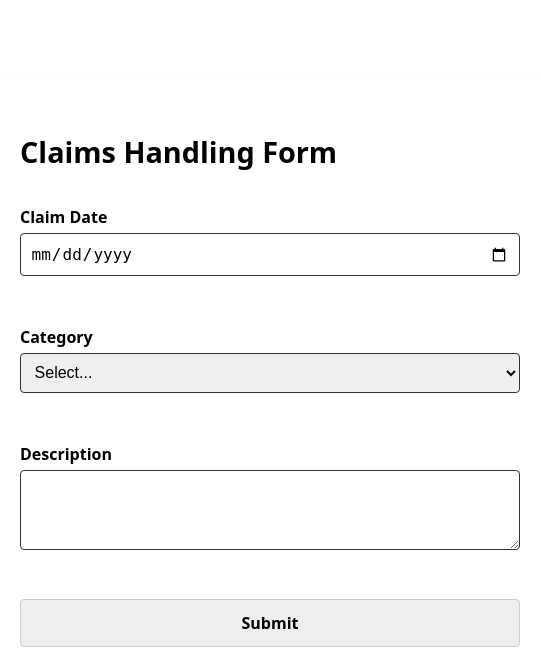
ClaimsForm › submitted claim appears in the list
This screenshot has width=541, height=664.
Type "2025-06-27" into the date field labelled "Claim Date".
click(270, 255); type("2025-06-27")  # box [20, 234, 520, 276]
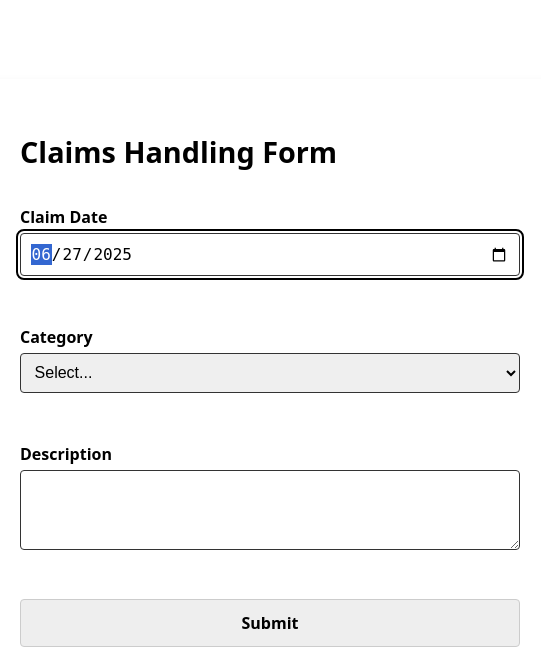
Select "Theft" in the dropdown labelled "Category" at (270, 373), box [20, 353, 520, 393]
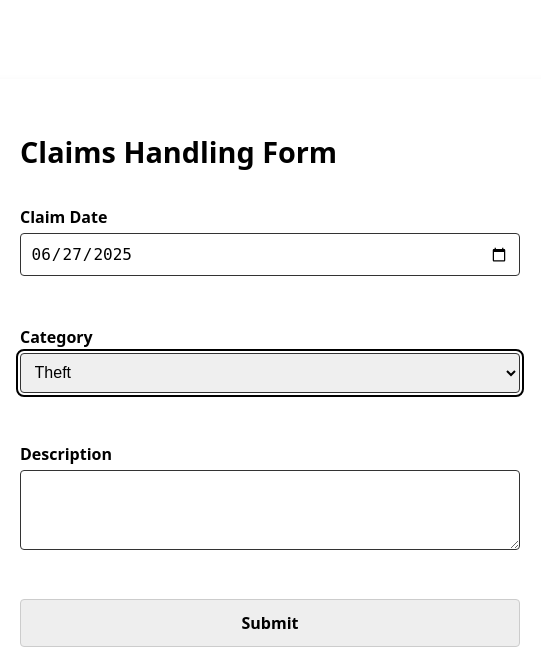
Type "Stolen laptop from car" into the text box labelled "Description".
click(270, 510); type("Stolen laptop from car")  # box [20, 470, 520, 550]
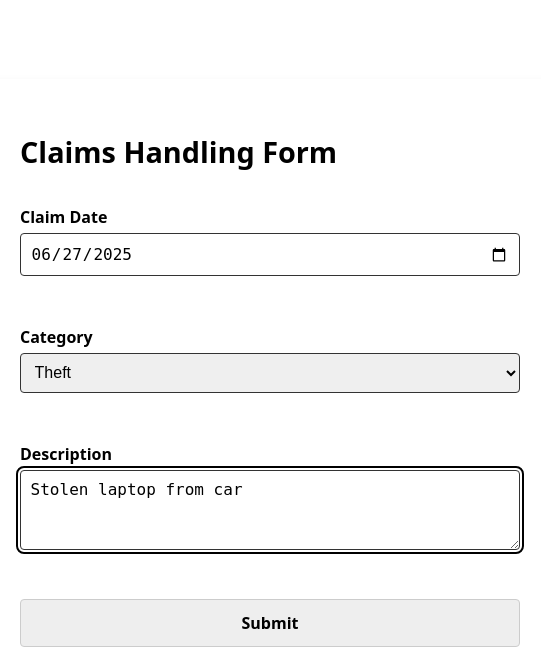
Click the button "Submit".
click(270, 623)  # box [20, 599, 520, 647]
(page scrolled)
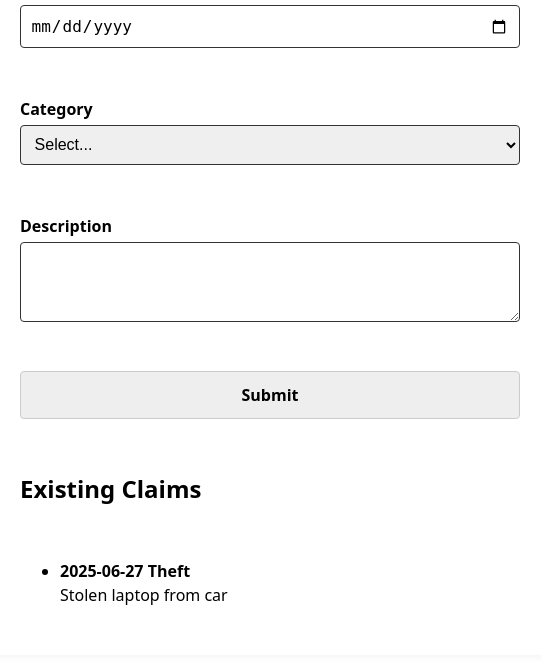
expect the list item "Stolen laptop from car" is shown: met, box [60, 584, 228, 606]
